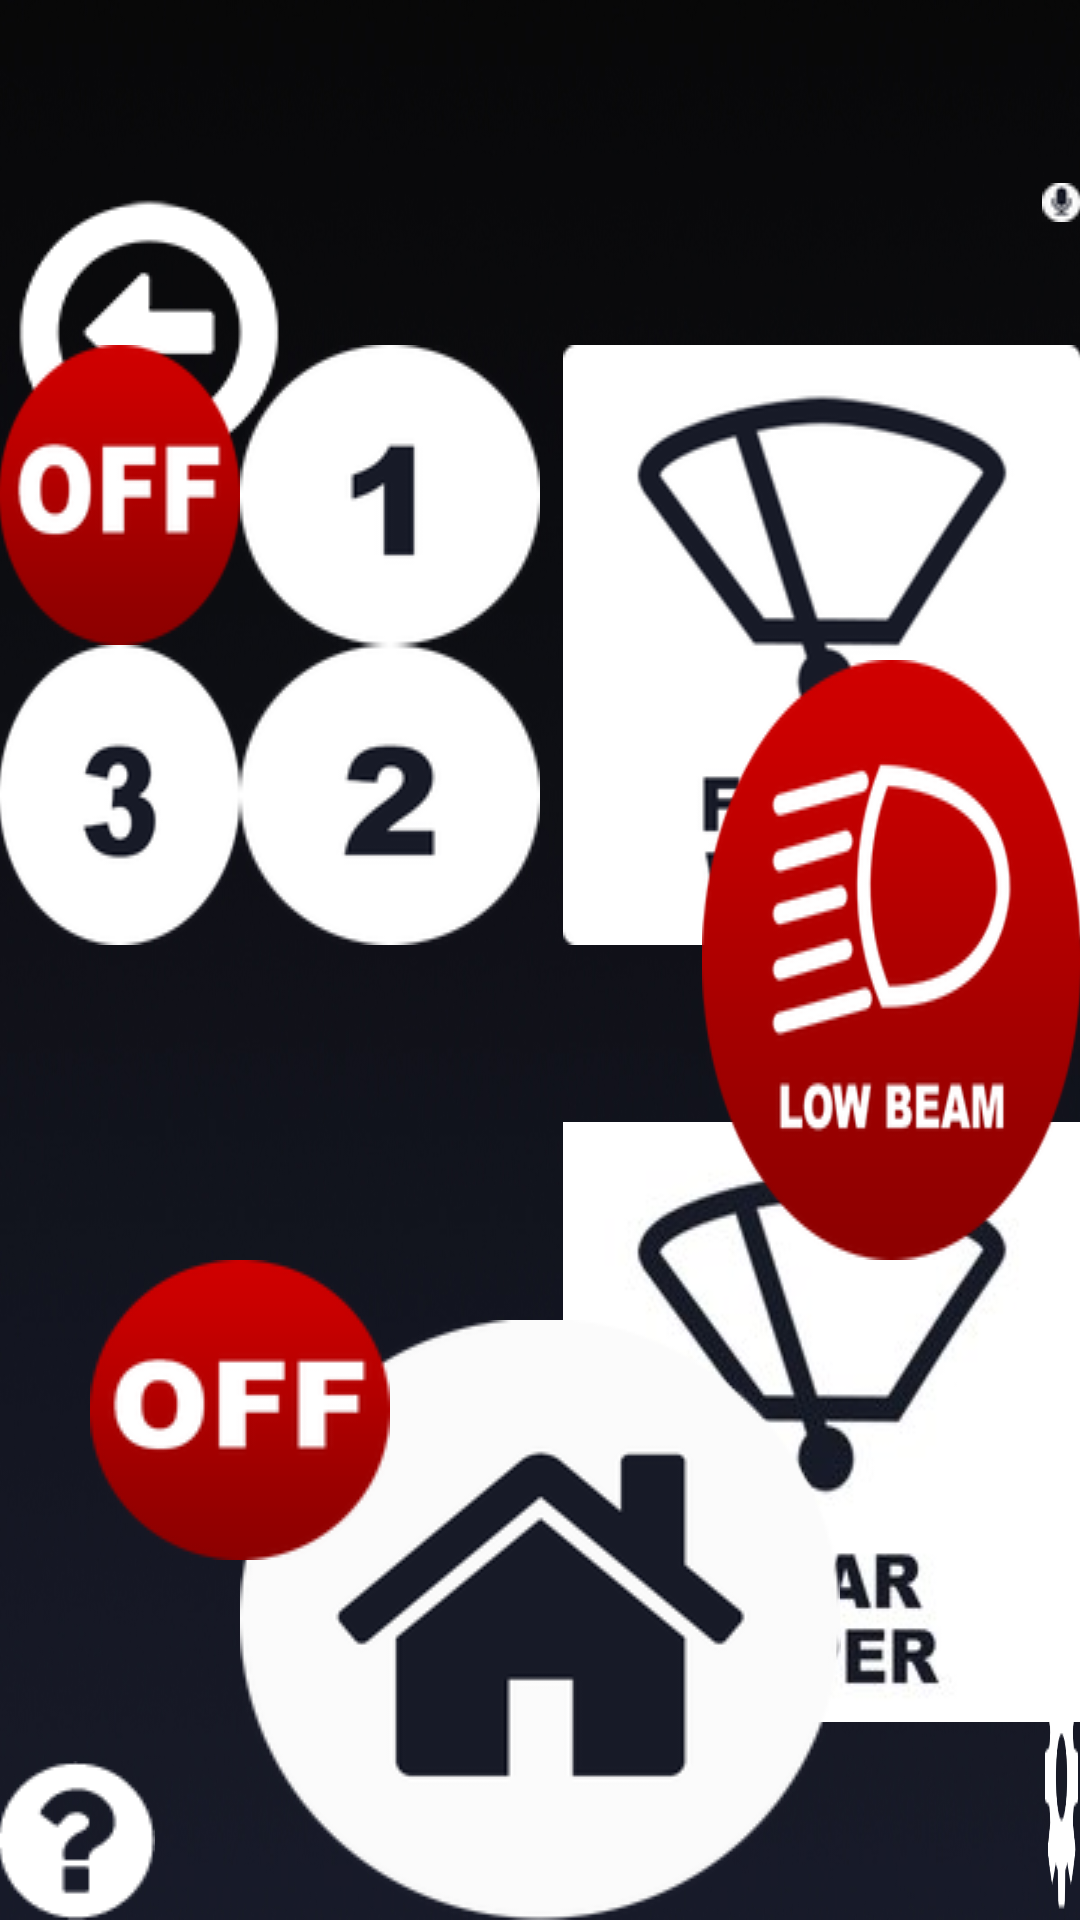

Screen size 1080px x 1920px. Icon name, then its center in pixels as [x,y]:
help: [77,1840]
mic: [1061,202]
